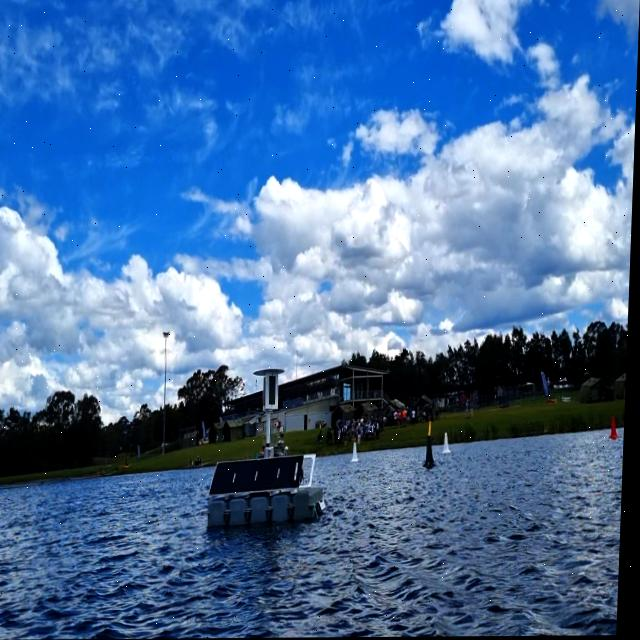led: (270, 373, 281, 408)
